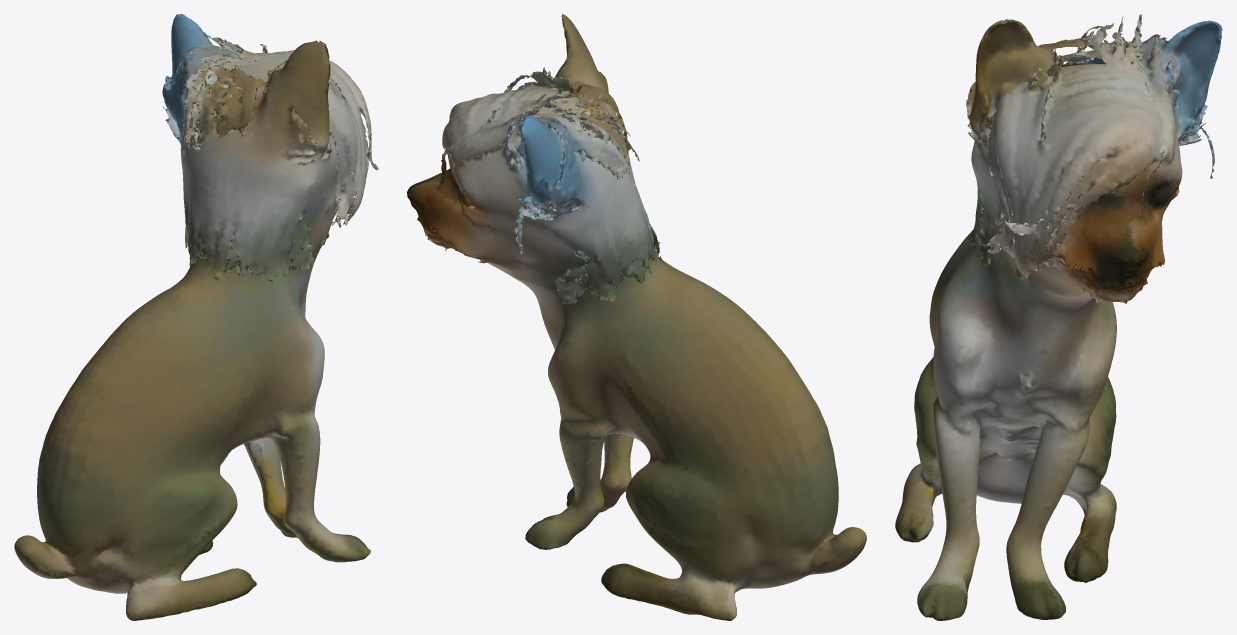
Rendered from meme1 dog.fbx.
The picture shows the model from 3 angles, left to right: view 1: azimuth 30°, elevation 25°; view 2: azimuth 150°, elevation 25°; view 3: azimuth 270°, elevation 25°; orthographic projection. The views are drawn at different scales.
Parts seen in each view (by area): view 1: tripo_node_cc94e1a4-71db-4150-860a-6d2056fc3d41; view 2: tripo_node_cc94e1a4-71db-4150-860a-6d2056fc3d41; view 3: tripo_node_cc94e1a4-71db-4150-860a-6d2056fc3d41.
Part boxes in pixels (x1=…): tripo_node_cc94e1a4-71db-4150-860a-6d2056fc3d41: x1=14, y1=14, x2=378, y2=620; tripo_node_cc94e1a4-71db-4150-860a-6d2056fc3d41: x1=407, y1=14, x2=866, y2=620; tripo_node_cc94e1a4-71db-4150-860a-6d2056fc3d41: x1=895, y1=14, x2=1222, y2=620.
Bounding box in the file's own units: 80.46 × 100 × 48.73.
Materials: 1 (1 with a texture image).
